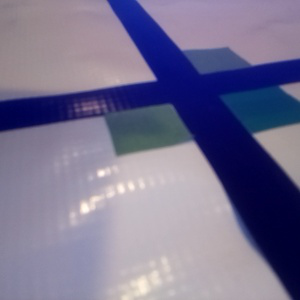bottom_left: (104, 87, 220, 156)
bottom_right: (194, 74, 300, 134)
top_right: (158, 48, 251, 91)
